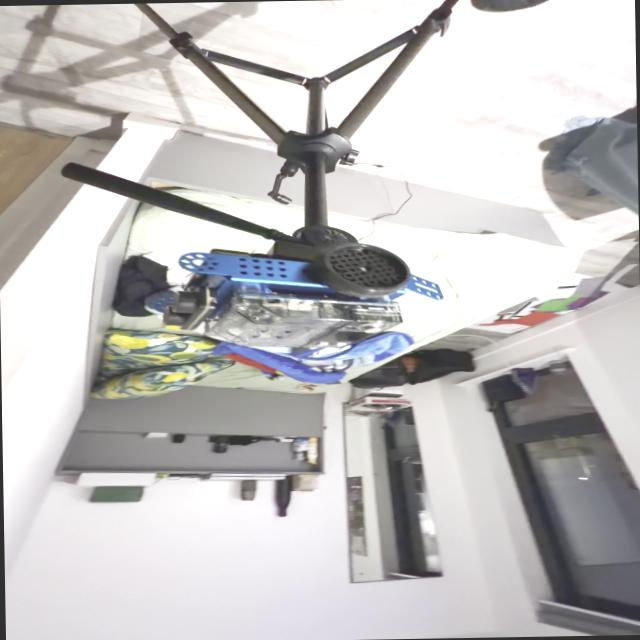mbot-detection: (140, 236, 450, 356)
